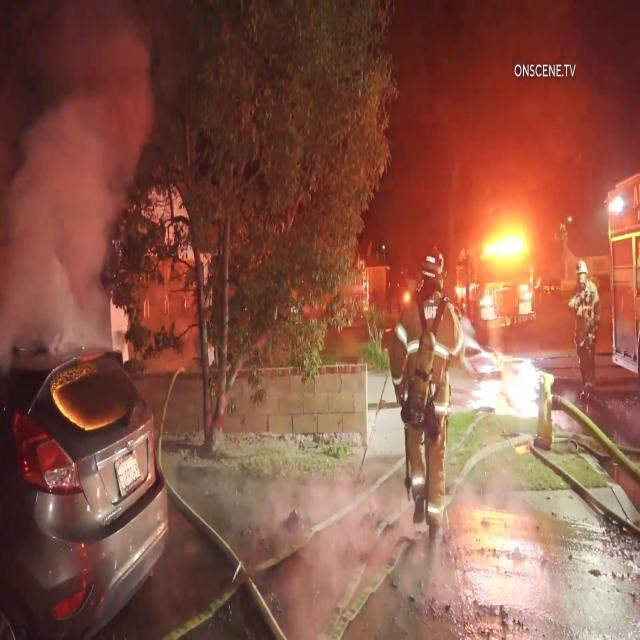smoke: (6, 6, 196, 163), (0, 161, 148, 333)
